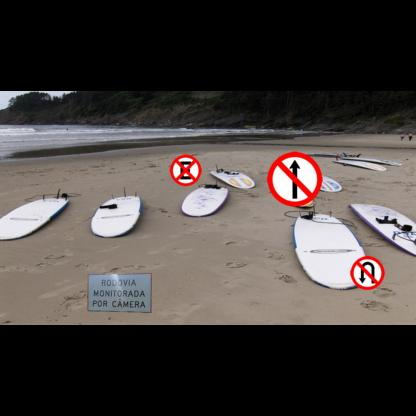I-E: (87, 272, 152, 313)
R-3: (267, 152, 322, 206)
R-5a: (350, 256, 385, 290)
R-6c: (170, 154, 202, 186)
